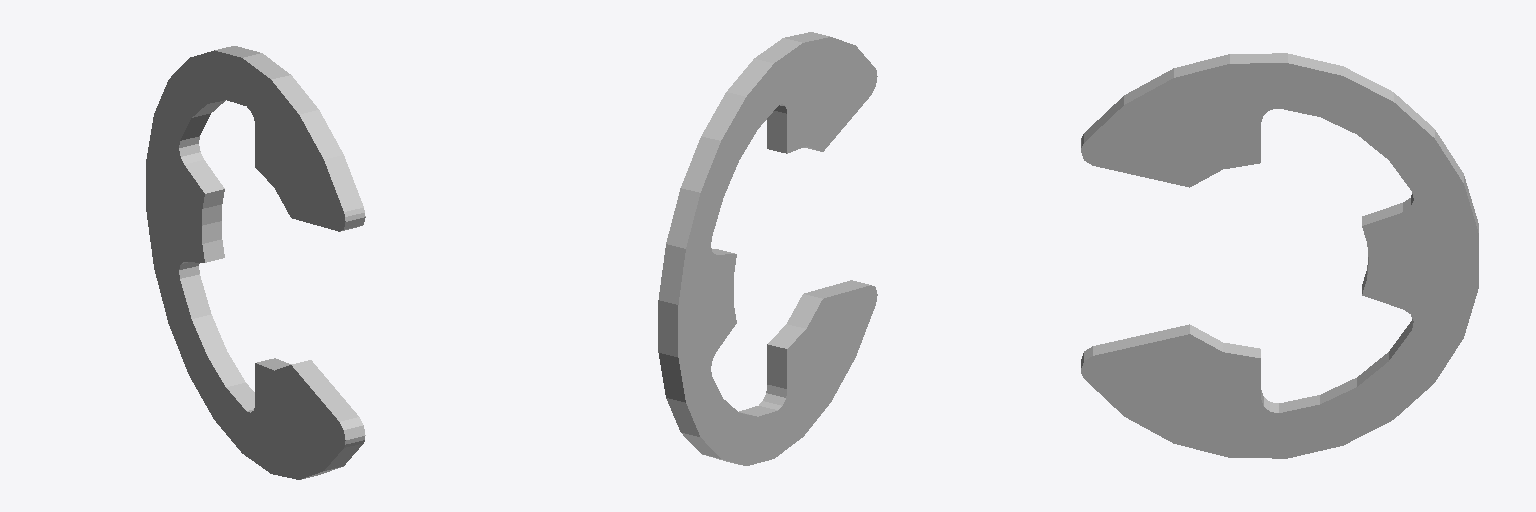
File: external_retaining_ring.obj
3 views of the same model, side by side, from view 1: azimuth 30°, elevation 25°; view 2: azimuth 150°, elevation 25°; view 3: azimuth 270°, elevation 25° (orthographic).
Visible parts, largest first — view 1: 1; view 2: 1; view 3: 1.
Part boxes in pixels (bbox=[...]): 1: bbox=[146, 46, 365, 479]; 1: bbox=[658, 32, 877, 465]; 1: bbox=[1081, 53, 1478, 458].
Bounding box in the file's own units: 1.07 × 20.17 × 18.41.